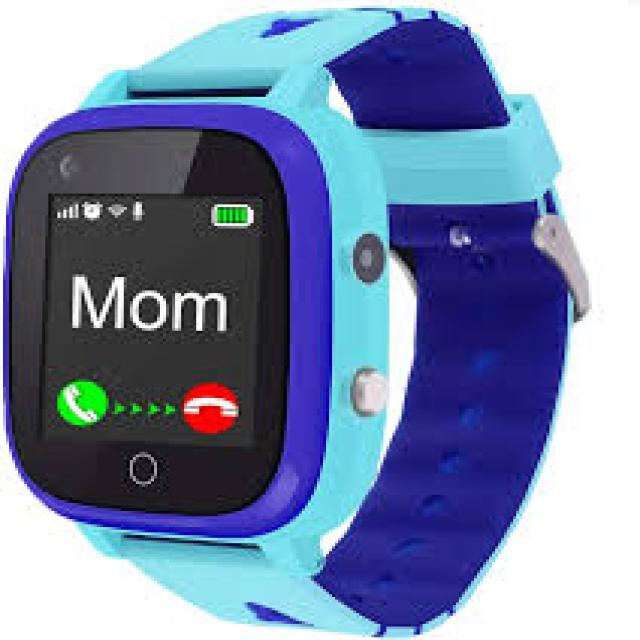objects: (6, 7, 586, 637)
